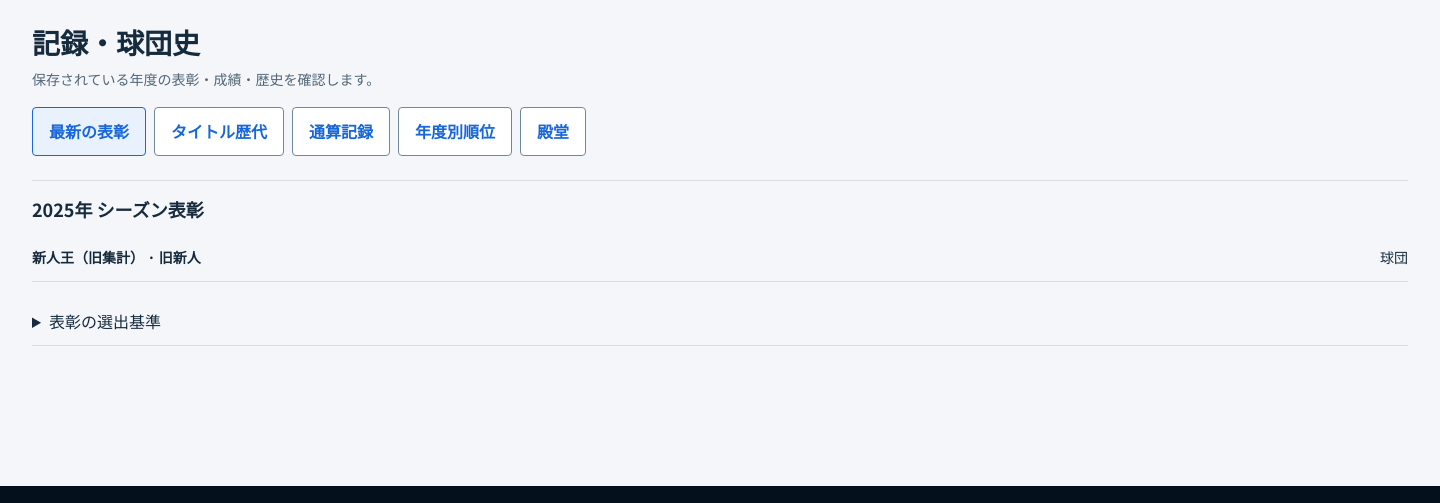
Test: award records compatibility › retains old single-winner titles and rookie records with their old meaning
The image size is (1440, 503).
Click the button "タイトル歴代". click: (219, 132)
box: top-left (154, 108), bottom-right (284, 156)
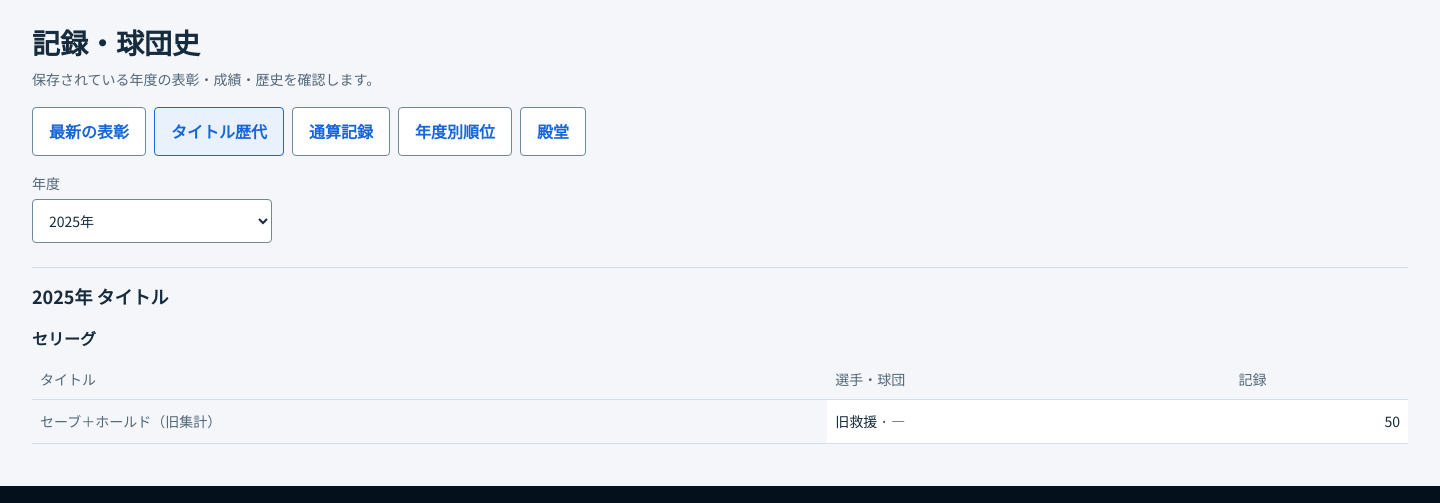
Result: the text "旧救援" is shown at top-left (835, 411), bottom-right (877, 431)
Result: the text "セーブ＋ホールド（旧集計）" is shown at top-left (32, 400), bottom-right (827, 444)
